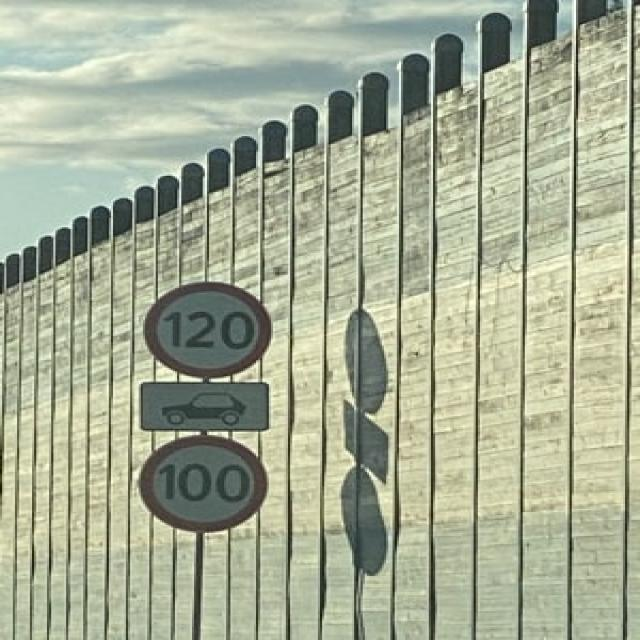Speed Limit -100-: (156, 458, 252, 504)
Speed Limit -120-: (165, 306, 256, 354)
